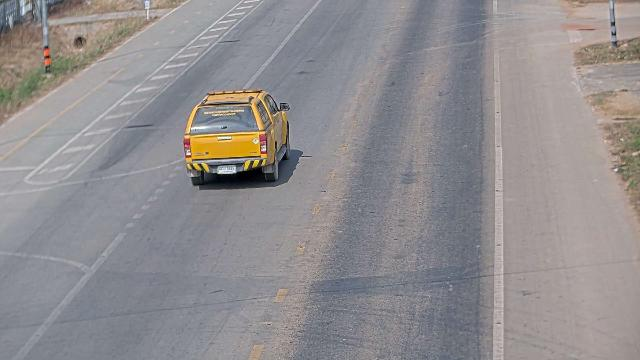pickup-truck: (182, 88, 291, 186)
